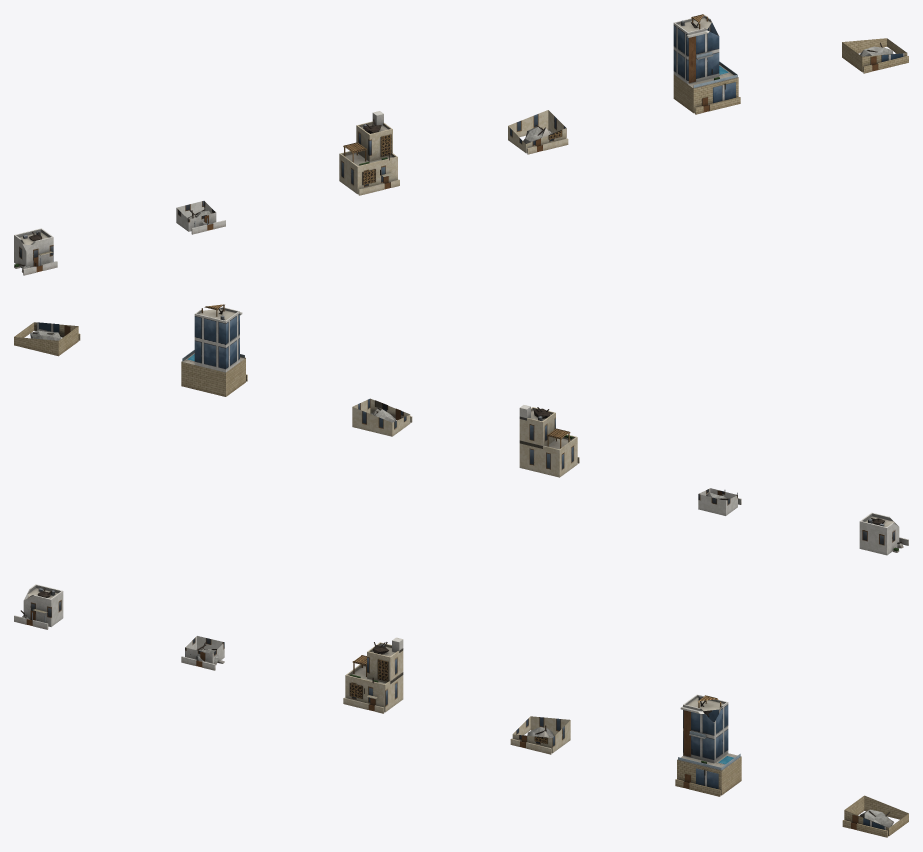
The model's file is modern-levant-houses-damage.glb.
The picture shows the model from 3 angles, top to bottom: view 1: azimuth 30°, elevation 25°; view 2: azimuth 150°, elevation 25°; view 3: azimuth 330°, elevation 25°; orthographic projection.
Parts seen in each view (by area): view 1: LOD0.004, LOD0.002, LOD0.003, LOD0.005, LOD0, LOD0.001; view 2: LOD0.004, LOD0.002, LOD0.005, LOD0.003, LOD0, LOD0.001; view 3: LOD0.004, LOD0.002, LOD0.005, LOD0.003, LOD0, LOD0.001.
Part boxes in pixels (x1,y1,x2,y2): LOD0.004: [673, 14, 740, 114]; LOD0.002: [339, 111, 399, 195]; LOD0.003: [508, 110, 568, 154]; LOD0.005: [842, 38, 908, 73]; LOD0: [14, 228, 57, 275]; LOD0.001: [176, 201, 225, 234]; LOD0.004: [181, 304, 247, 396]; LOD0.002: [519, 405, 579, 477]; LOD0.005: [14, 322, 80, 356]; LOD0.003: [352, 398, 412, 436]; LOD0: [859, 512, 908, 555]; LOD0.001: [698, 488, 741, 515]; LOD0.004: [675, 694, 741, 796]; LOD0.002: [343, 637, 403, 713]; LOD0.005: [842, 795, 908, 837]; LOD0.003: [510, 716, 570, 754]; LOD0: [14, 584, 63, 629]; LOD0.001: [181, 636, 224, 670].
Size of what is drawn, in the model's own units: 15.71 by 1.4 by 0.676.
1 material, 1 textured.
